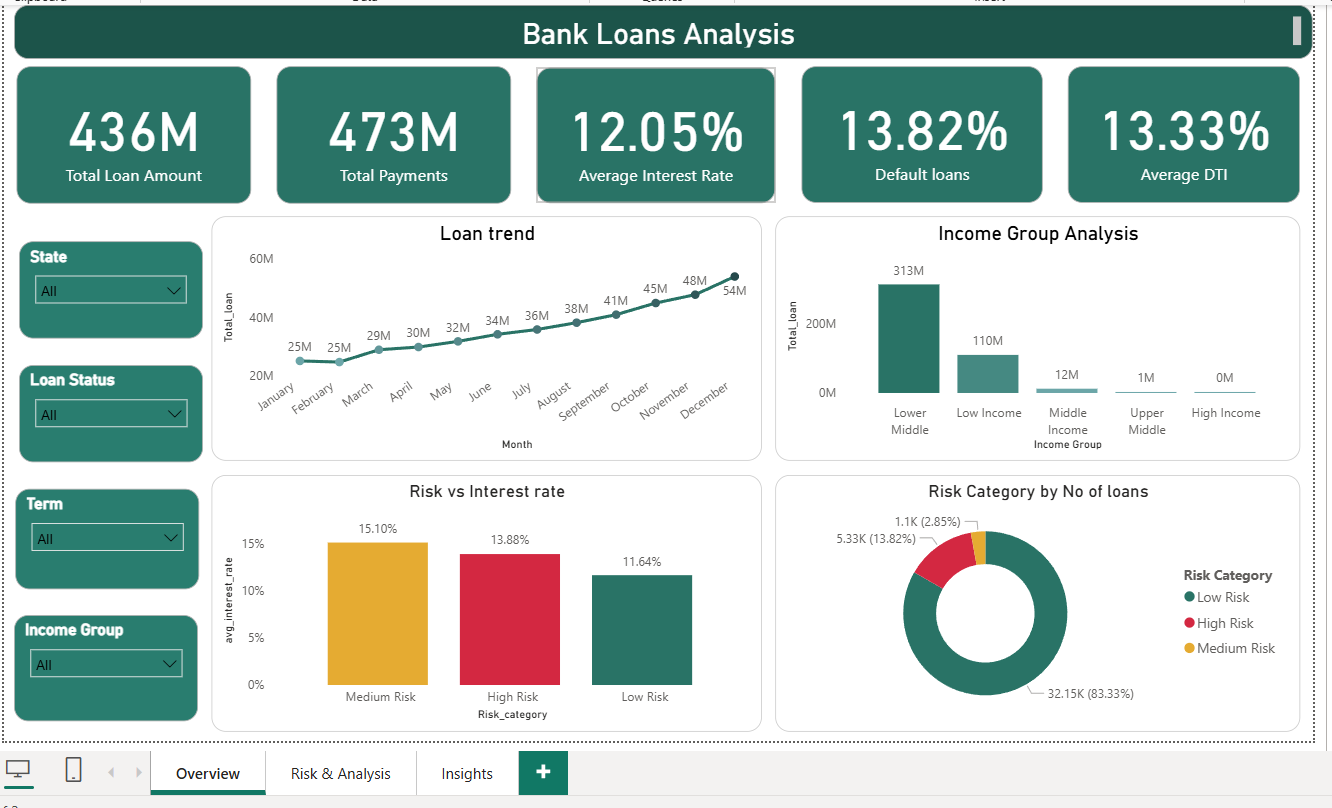

This screenshot's page, from the dashboard's own definition file:
{"tool":"powerbi","page":{"name":"Overview","canvas":[1280,720],"ordinal":0},"visuals":[{"type":"textbox","box":[9.8,0,1270.5,52.6],"z":0},{"type":"card","fields":{"Values":["bank_loan_project clean_loans.Total_loan"]},"box":[12.4,59.4,229.4,134.2],"z":1000},{"type":"card","fields":{"Values":["bank_loan_project clean_loans.total of payments"]},"box":[266.7,59.4,229.4,134.2],"z":2000},{"type":"card","fields":{"Values":["bank_loan_project clean_loans.avg_interest_rate"]},"box":[521,60.9,233.7,132.7],"z":3000},{"type":"card","fields":{"Values":["bank_loan_project clean_loans.Default_loans_%"]},"box":[780.2,59.9,236,133.3],"z":4000},{"type":"card","fields":{"Values":["bank_loan_project clean_loans.avg_dti_rate"]},"box":[1040.6,59.9,227.4,133.3],"z":5000},{"type":"lineChart","title":"Loan trend","fields":{"Y":["bank_loan_project clean_loans.Total_loan"],"Category":["bank_loan_project clean_loans.issue_date_converted.Variation.Date Hierarchy.Year","bank_loan_project clean_loans.issue_date_converted.Variation.Date Hierarchy.Quarter","bank_loan_project clean_loans.issue_date_converted.Variation.Date Hierarchy.Month"]},"box":[203.4,206.3,538.2,239.5],"z":6000},{"type":"clusteredColumnChart","title":"Income Group Analysis","fields":{"Category":["bank_loan_project clean_loans.Income Group"],"Y":["bank_loan_project clean_loans.Total_loan"]},"box":[754.6,206.3,513.6,239.5],"z":7000},{"type":"donutChart","title":"Risk Category by No of loans","fields":{"Category":["bank_loan_project clean_loans.Risk_category"],"Y":["CountNonNull(bank_loan_project clean_loans.id)"]},"box":[754.6,460.2,513.6,251],"z":8000},{"type":"slicer","title":"State","fields":{"Values":["bank_loan_project clean_loans.address_state"]},"box":[14.7,231.1,179.8,95.4],"z":9000},{"type":"slicer","title":"Loan Status","fields":{"Values":["bank_loan_project clean_loans.loan_status"]},"box":[14.4,352,180.3,95.2],"z":10000},{"type":"slicer","title":"Income Group","fields":{"Values":["bank_loan_project clean_loans.Income Group"]},"box":[10.1,597.3,180.3,103.9],"z":11000},{"type":"slicer","title":"Term","fields":{"Values":["bank_loan_project clean_loans.term"]},"box":[11.5,473.2,180.3,98.1],"z":12000},{"type":"columnChart","title":"Risk vs Interest rate","fields":{"Category":["bank_loan_project clean_loans.Risk_category"],"Y":["bank_loan_project clean_loans.avg_interest_rate"]},"box":[203.4,460.2,538.2,251],"z":13000}]}

Visuals, with their boxes in screenshot pixels (x1, y1, x2, y2):
textbox: 7 0 1310 54
card - bank_loan_project clean_loans.Total_loan: 9 61 245 199
card - bank_loan_project clean_loans.total of payments: 270 61 506 199
card - bank_loan_project clean_loans.avg_interest_rate: 531 62 771 199
card - bank_loan_project clean_loans.Default_loans_%: 797 61 1039 198
card - bank_loan_project clean_loans.avg_dti_rate: 1064 61 1298 198
"Loan trend" lineChart: 205 212 758 457
"Income Group Analysis" clusteredColumnChart: 771 212 1298 457
"Risk Category by No of loans" donutChart: 771 472 1298 730
"State" slicer: 12 237 196 335
"Loan Status" slicer: 11 361 196 459
"Income Group" slicer: 7 613 192 720
"Term" slicer: 8 486 193 586
"Risk vs Interest rate" columnChart: 205 472 758 730
